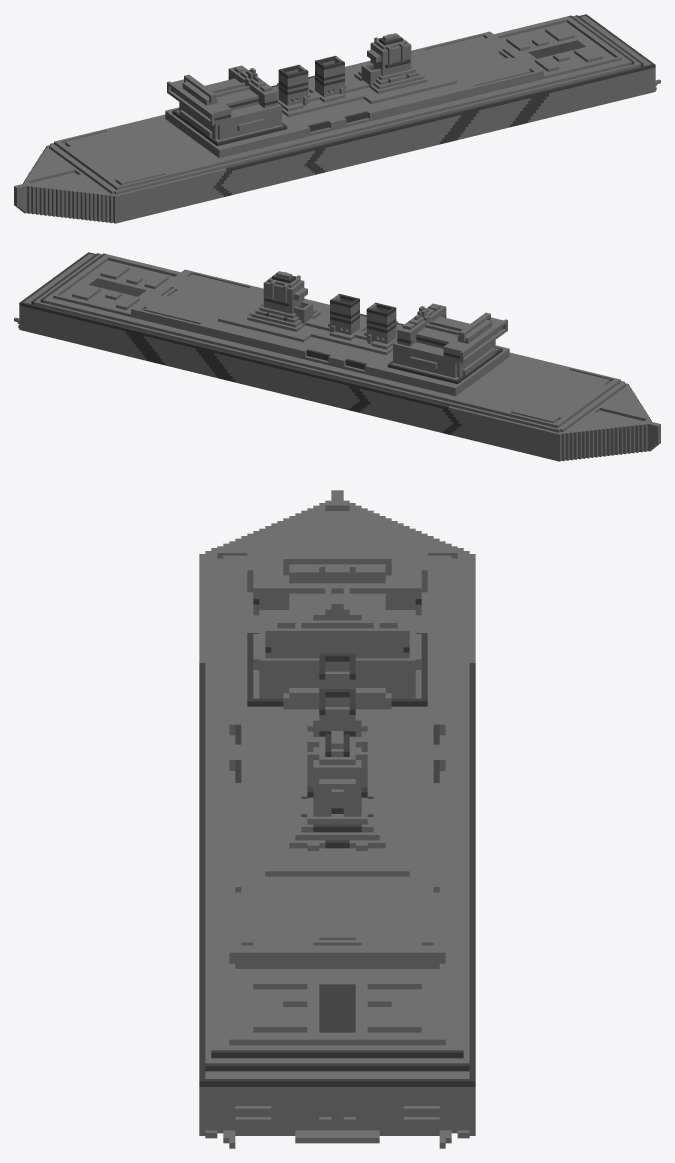
File: boat.vox 2.obj
3 renders of one model, top to bottom at view 1: azimuth 30°, elevation 25°; view 2: azimuth 150°, elevation 25°; view 3: azimuth 270°, elevation 25°, orthographic. The views are drawn at different scales.
Size of the model in its own units: 23.8 by 3.2 by 4.6.
Materials: 1 (1 with a texture image).
